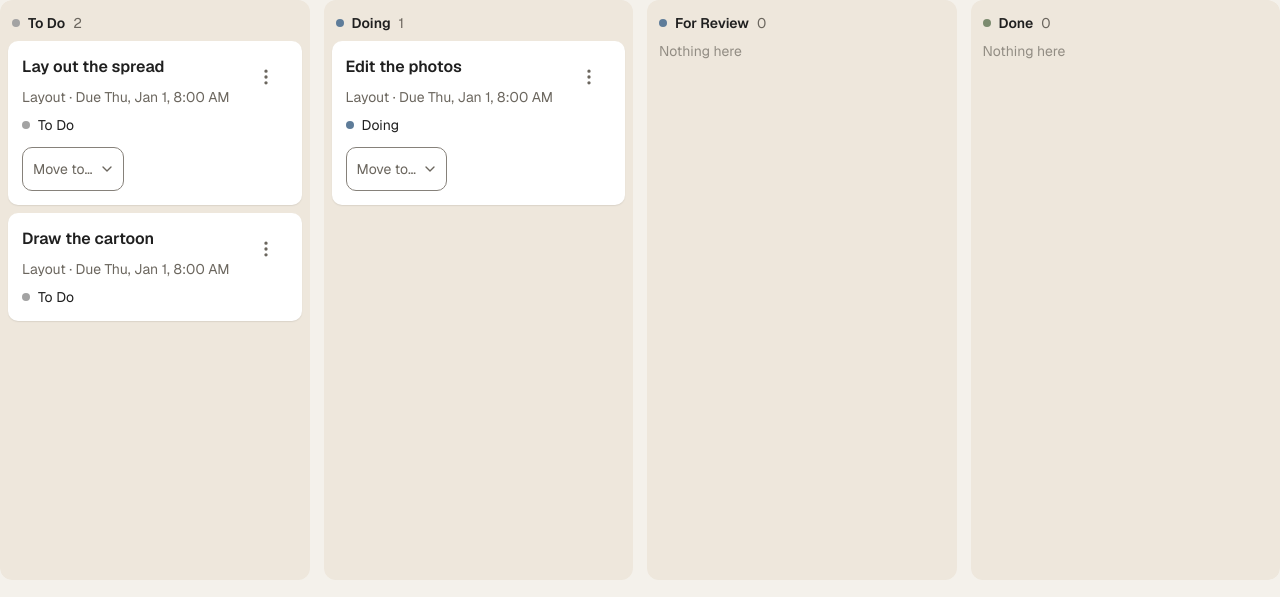
Test: TaskBoard › lists exactly the card's moves in its select
Click the dropdown labelled "Move to…" below "Edit the photos": click(396, 169) [346, 147, 447, 191]
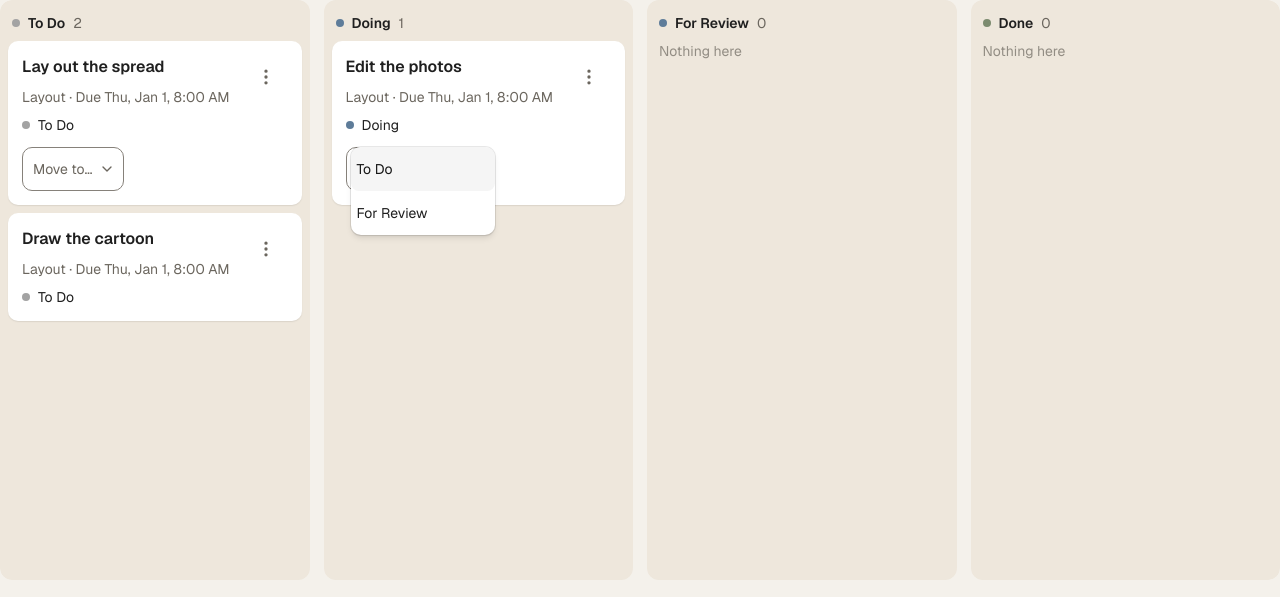
Now the options read "To Do", "For Review", in this order, box [350, 147, 494, 191]; [356, 204, 427, 222]
